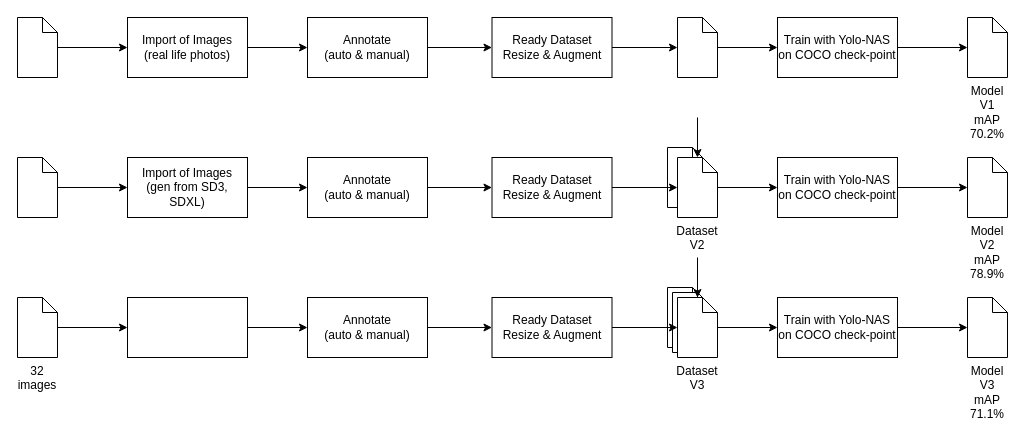
The diagram is 1025 pixels wide and 440 high, and some of its shapes have lost their labels. The box of each missing label's shape, as (x1, y1, x2, y2) in pixels:
25 images: (16, 156, 58, 218)
66 images: (16, 16, 58, 78)
Dataset V1: (676, 16, 718, 78)
Import of Images (gen from Flux.1): (126, 296, 248, 358)
